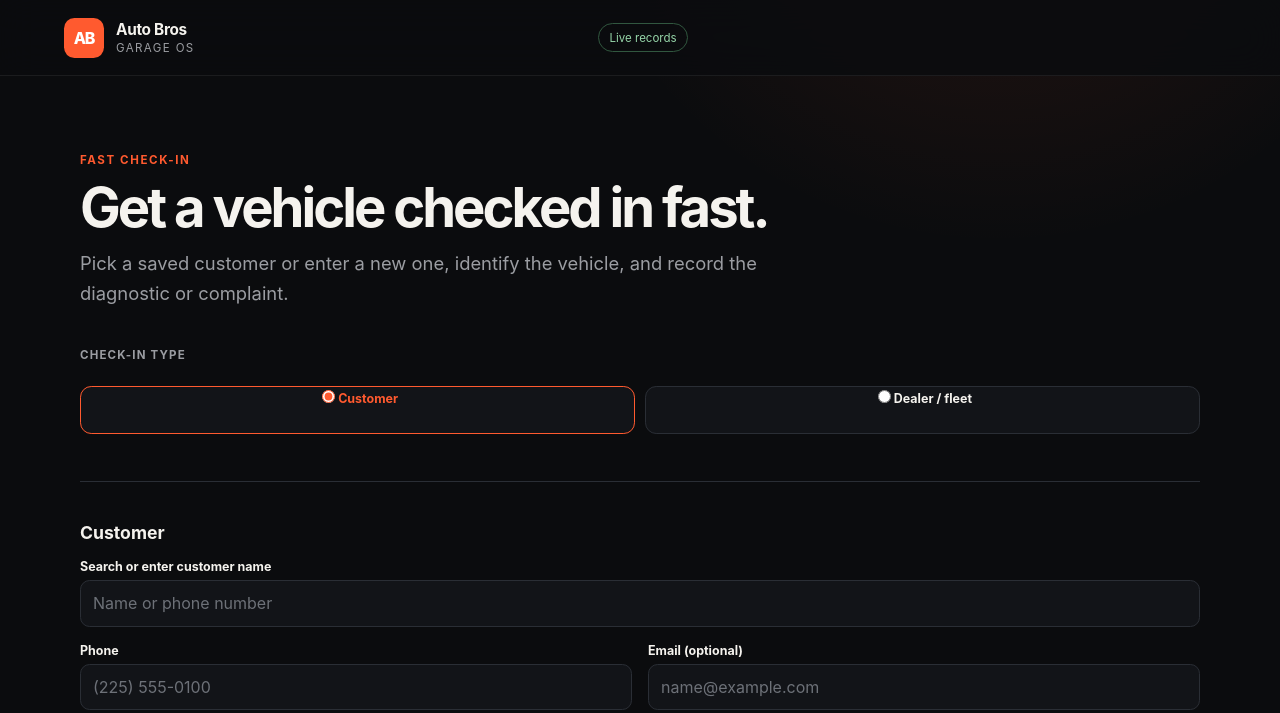
Scenario: CheckInPage › saves a complete intake and shows the permanent job number
Type "Andres Ocupatti" into the field labelled "Search or enter customer name".
click(640, 603); type("Andres Ocupatti")  # box [80, 580, 1200, 626]
(page scrolled)
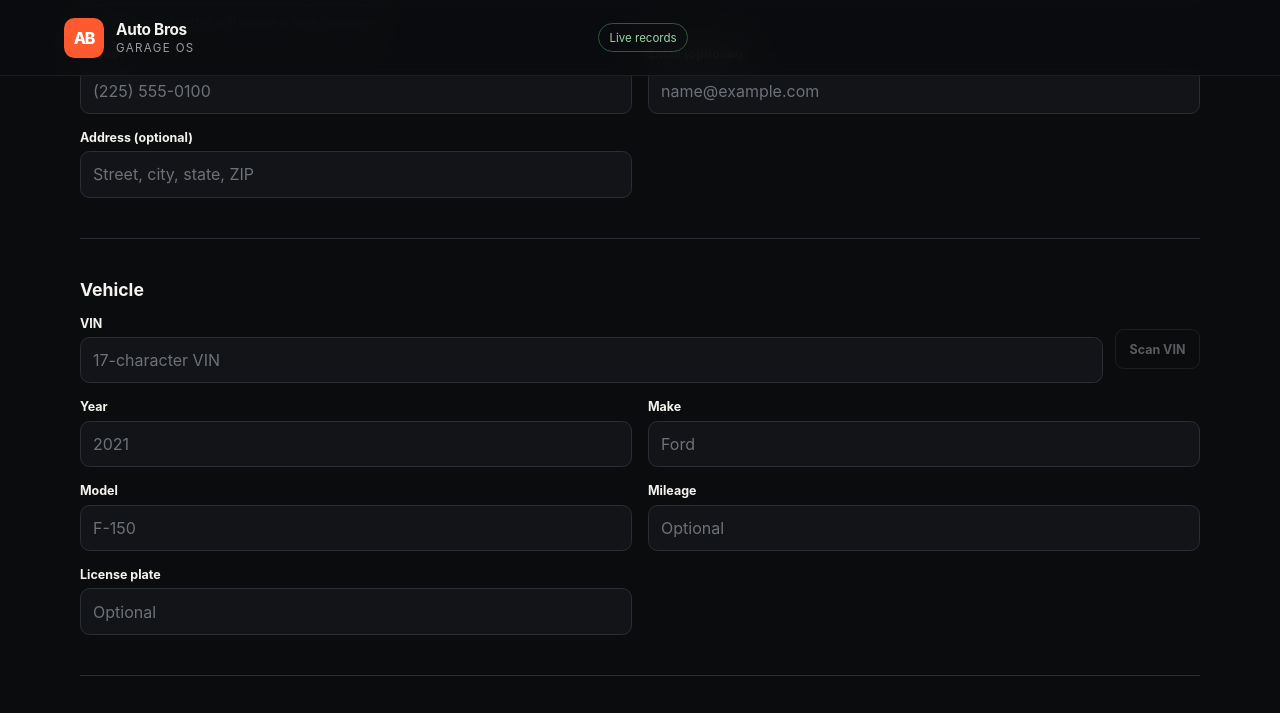
Type "1FTFW1ET1EFA10234" into the field labelled "VIN".
click(591, 360); type("1FTFW1ET1EFA10234")  # box [80, 337, 1103, 384]
(page scrolled)
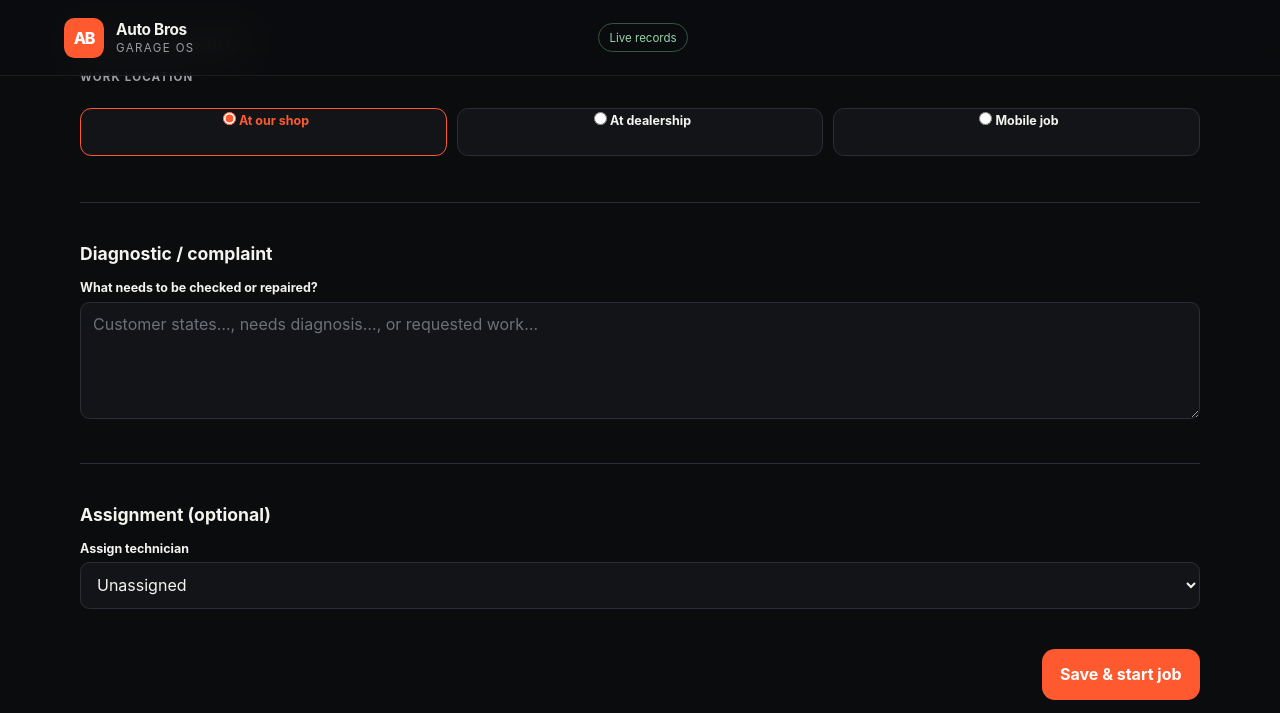
Type "Vehicle will not start; diagnose starter circuit." into the text box labelled "What needs to be checked or repaired?".
click(640, 360); type("Vehicle will not start; diagnose starter circuit.")  # box [80, 302, 1200, 419]
(page scrolled)
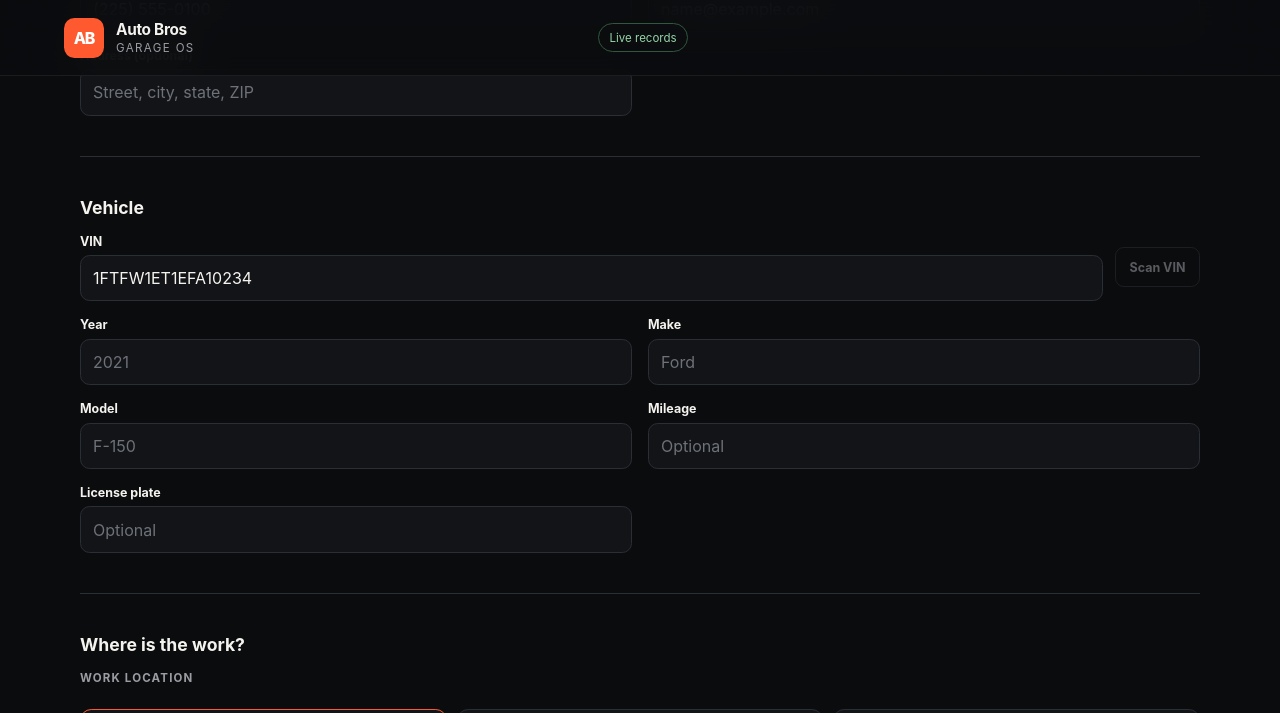
Submit the form named "Save & start job"
(page scrolled)
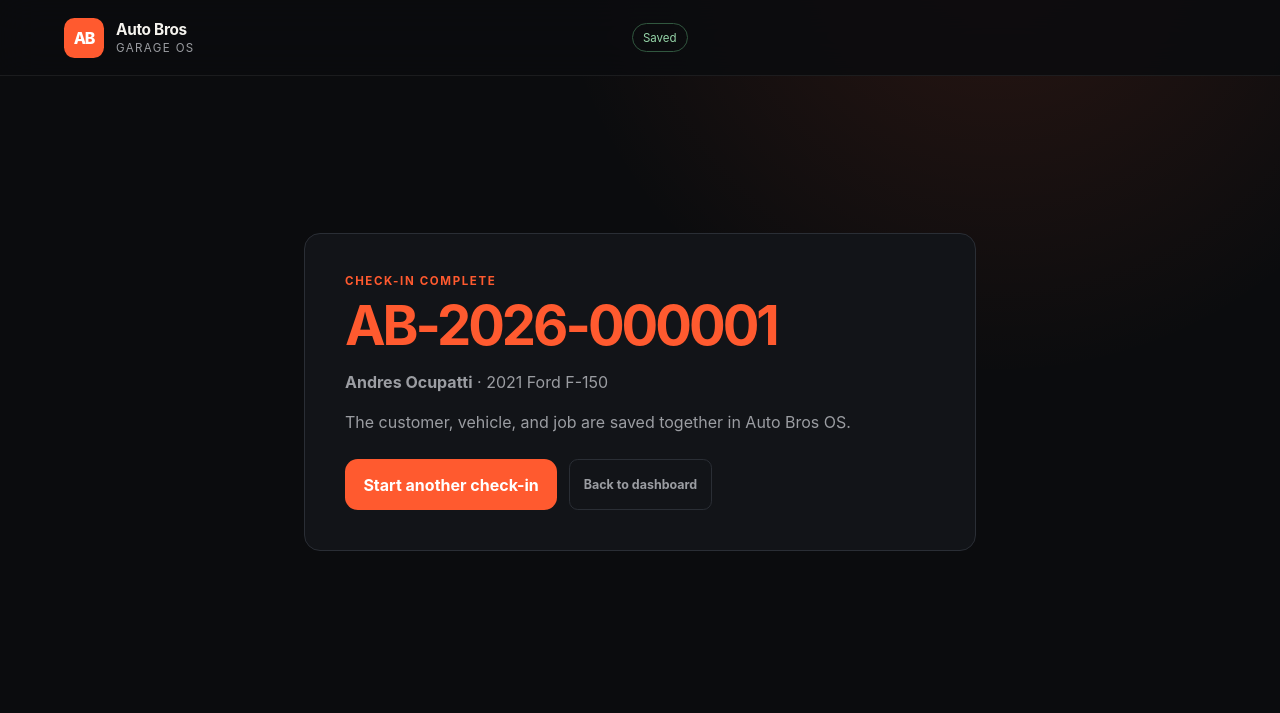
Check: the heading "AB-2026-000001" is shown, box [345, 292, 777, 358]
Check: the text "customer, vehicle, and job are saved together" is shown, box [345, 412, 851, 432]
